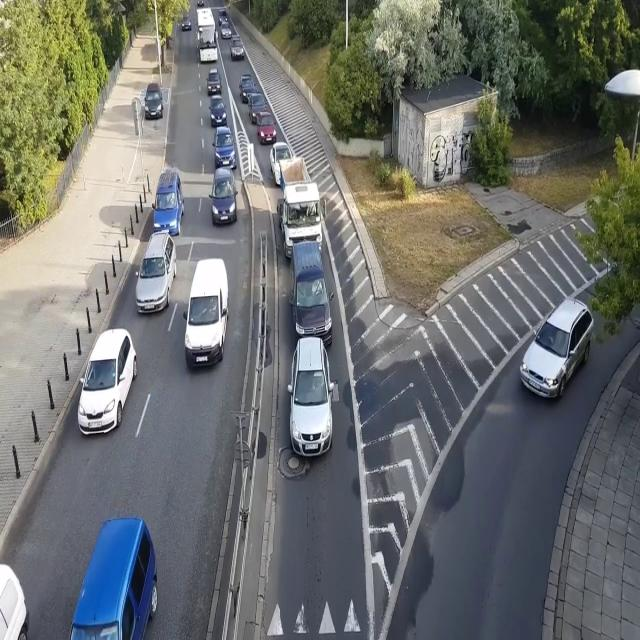bus: (196, 8, 219, 61)
car: (519, 295, 596, 406), (74, 327, 139, 435), (286, 336, 336, 459), (132, 231, 178, 316), (208, 167, 238, 223), (212, 125, 238, 172), (270, 142, 296, 186), (143, 80, 163, 120), (256, 111, 277, 146), (209, 95, 227, 126), (248, 92, 267, 121), (205, 66, 222, 97), (239, 73, 256, 101), (230, 33, 244, 62), (180, 7, 193, 33), (220, 23, 232, 39), (218, 9, 229, 23), (195, 0, 206, 7)
truck: (276, 158, 328, 258)
van: (68, 514, 159, 640), (182, 256, 230, 372), (289, 238, 335, 354), (0, 559, 31, 640), (150, 170, 186, 237)
